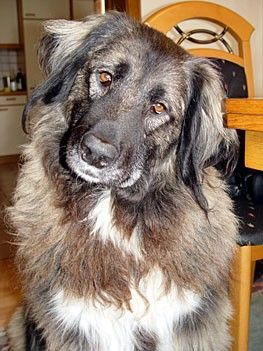cau_ovcharka: (6, 8, 241, 351)
